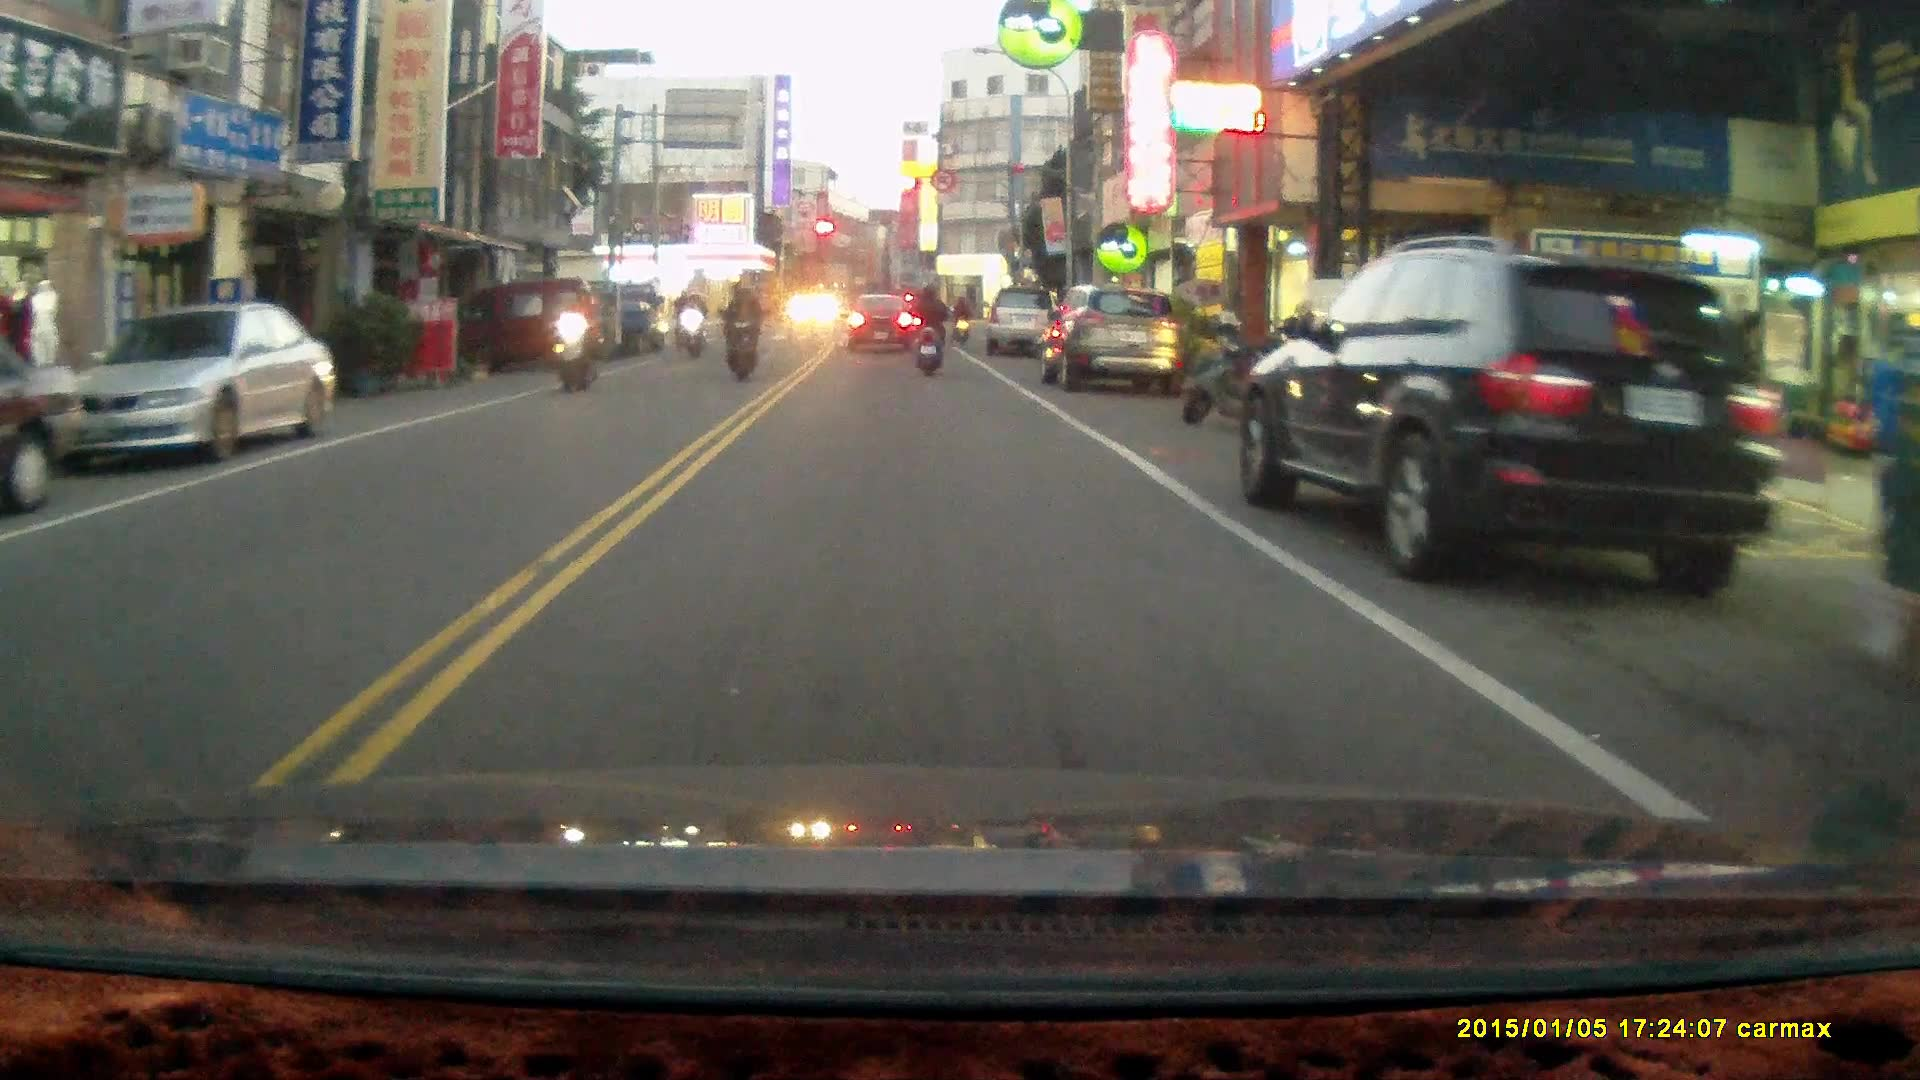rider: (552, 282, 598, 395), (717, 283, 759, 384), (909, 280, 948, 378), (679, 291, 707, 362), (949, 294, 970, 346)
vehicle: (1239, 239, 1773, 596), (43, 300, 340, 468), (2, 316, 84, 522), (1039, 284, 1181, 395), (490, 277, 612, 371), (987, 289, 1068, 363)
